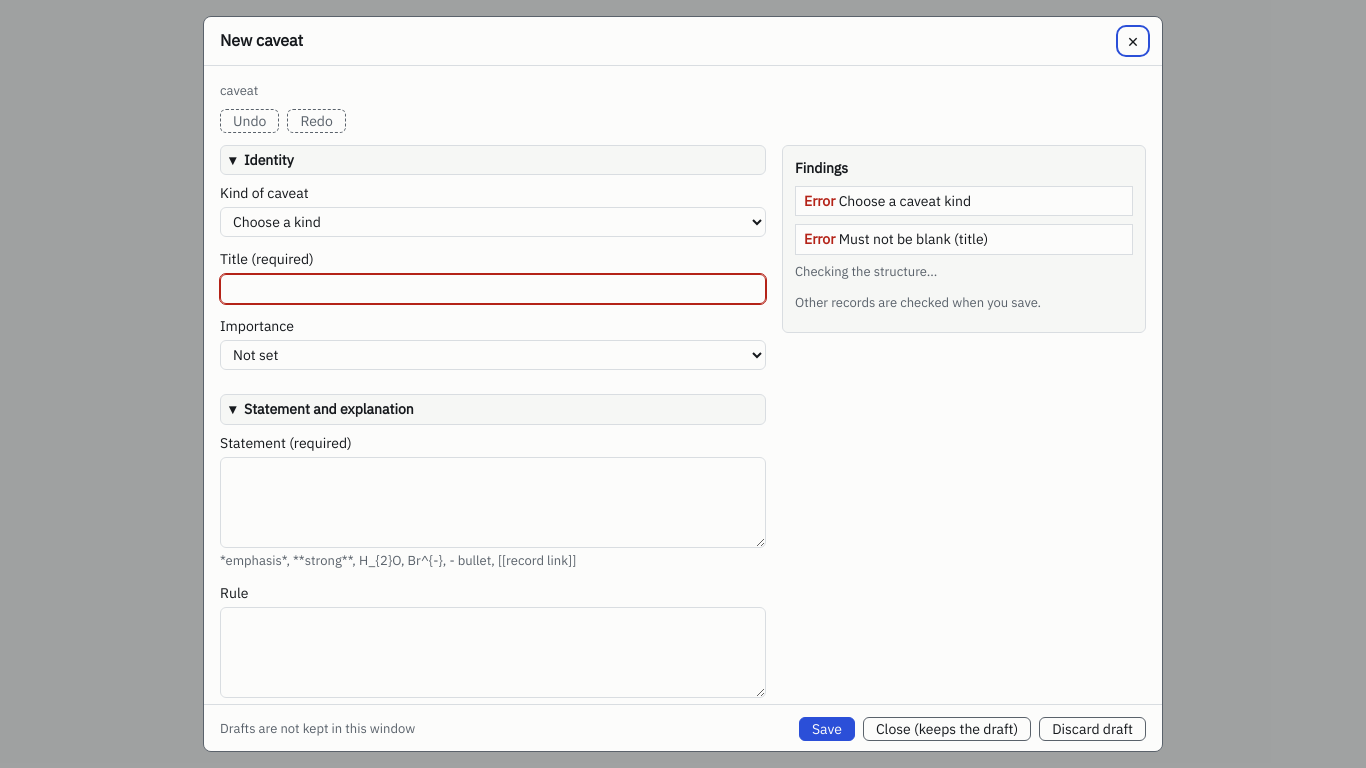
targets › CAV-001 and CAV-002 come live from the real rules
Select "Trap" in the dropdown labelled "Kind of caveat" at (493, 222), box [220, 207, 766, 237]
Type "Zz live caveat" into the field labelled "Title (required)" at (493, 289), box [220, 274, 766, 304]
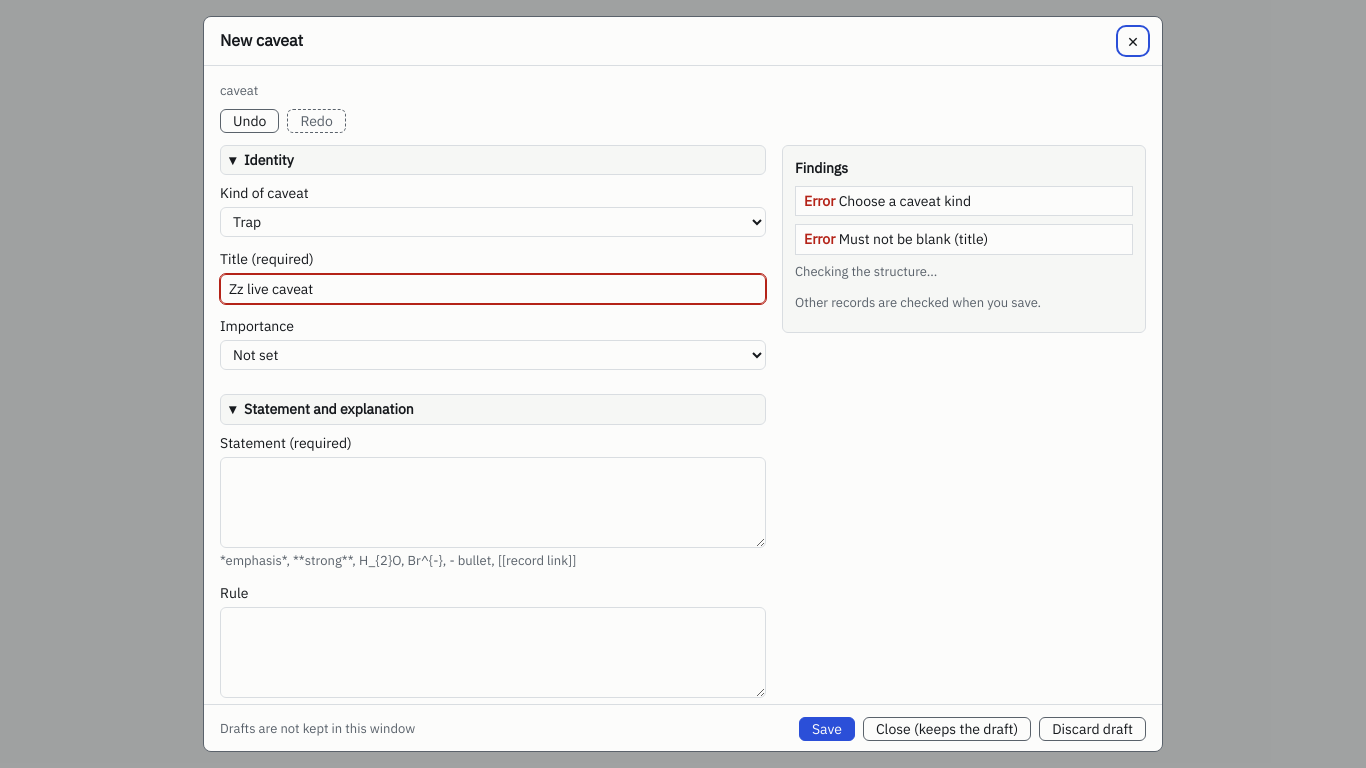
Type "A statement." into the text box labelled "Statement (required)" at (493, 502), box [220, 457, 766, 548]
(page scrolled)
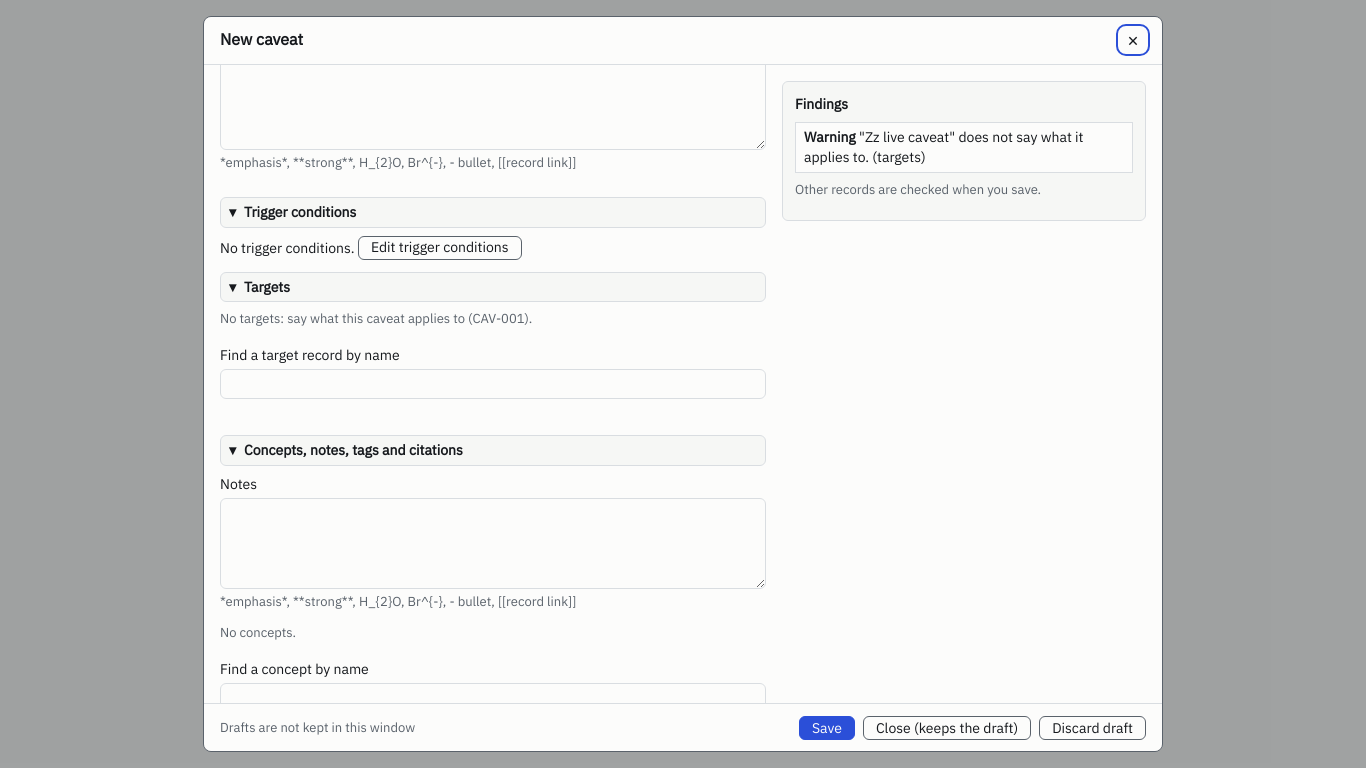
Check: the button "\"Zz live caveat\" does not say what it applies to" is shown, box [795, 122, 1133, 173]
Type "Cannizzaro" into the search field labelled "Find a target record by name" at (493, 384), box [220, 369, 766, 399]
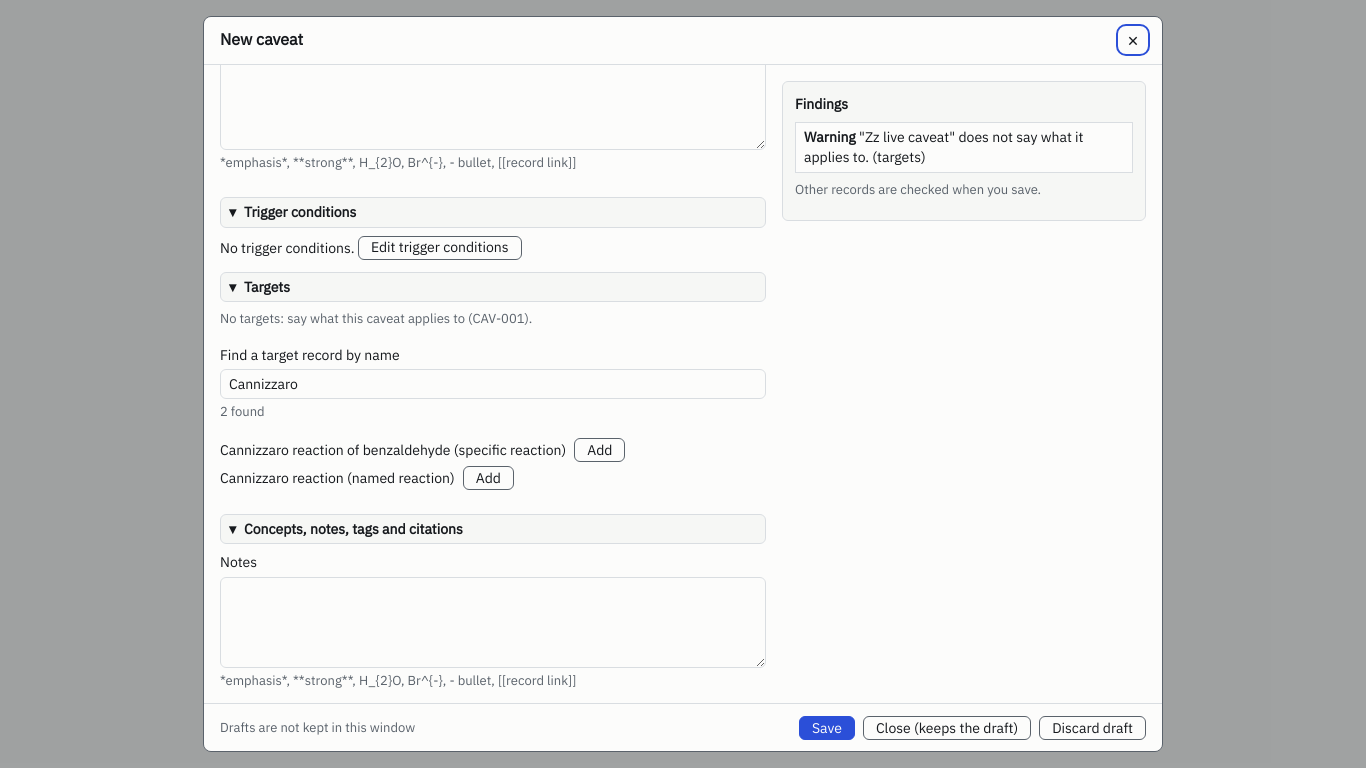
Click the 1st button "Add" at (600, 450), box [574, 438, 625, 462]
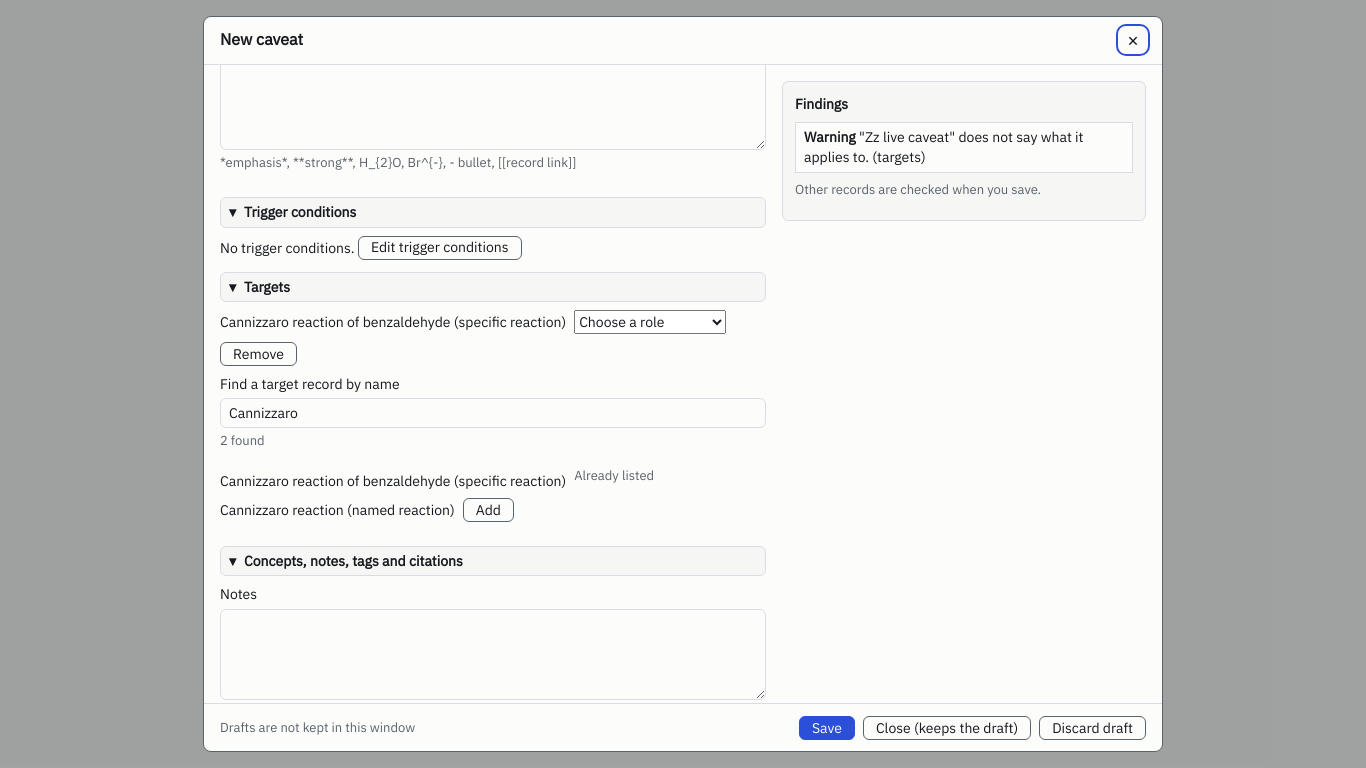
Select "Affected substrate" in the dropdown named "Role of Cannizzaro reaction of benzaldehyde" at (650, 322), box [574, 310, 726, 334]
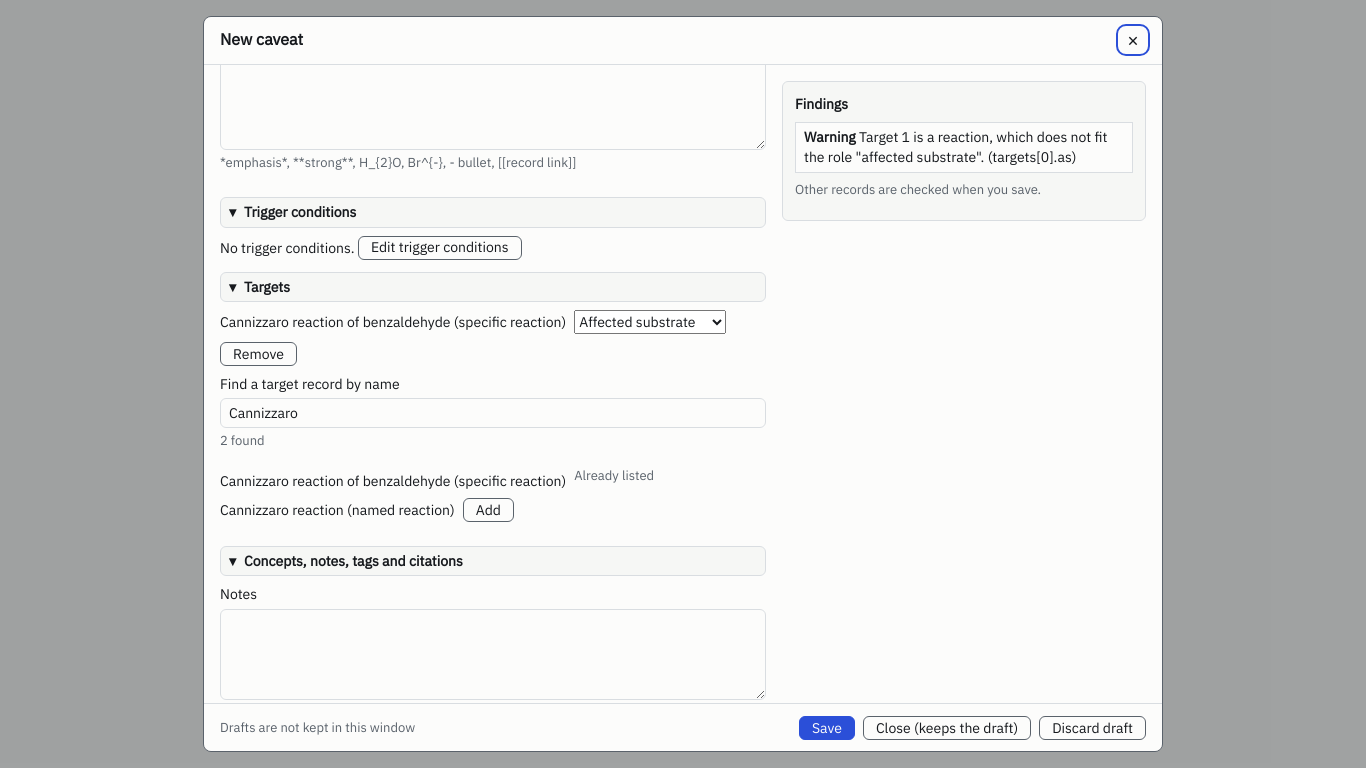
Check: the button "Target 1 is a reaction, which does not fit the role \"affected substrate\"" is shown, box [795, 122, 1133, 173]
Check: the button "does not say what it applies to" is gone
Select "Affected reaction" in the dropdown named "Role of Cannizzaro reaction of benzaldehyde" at (650, 322), box [574, 310, 726, 334]
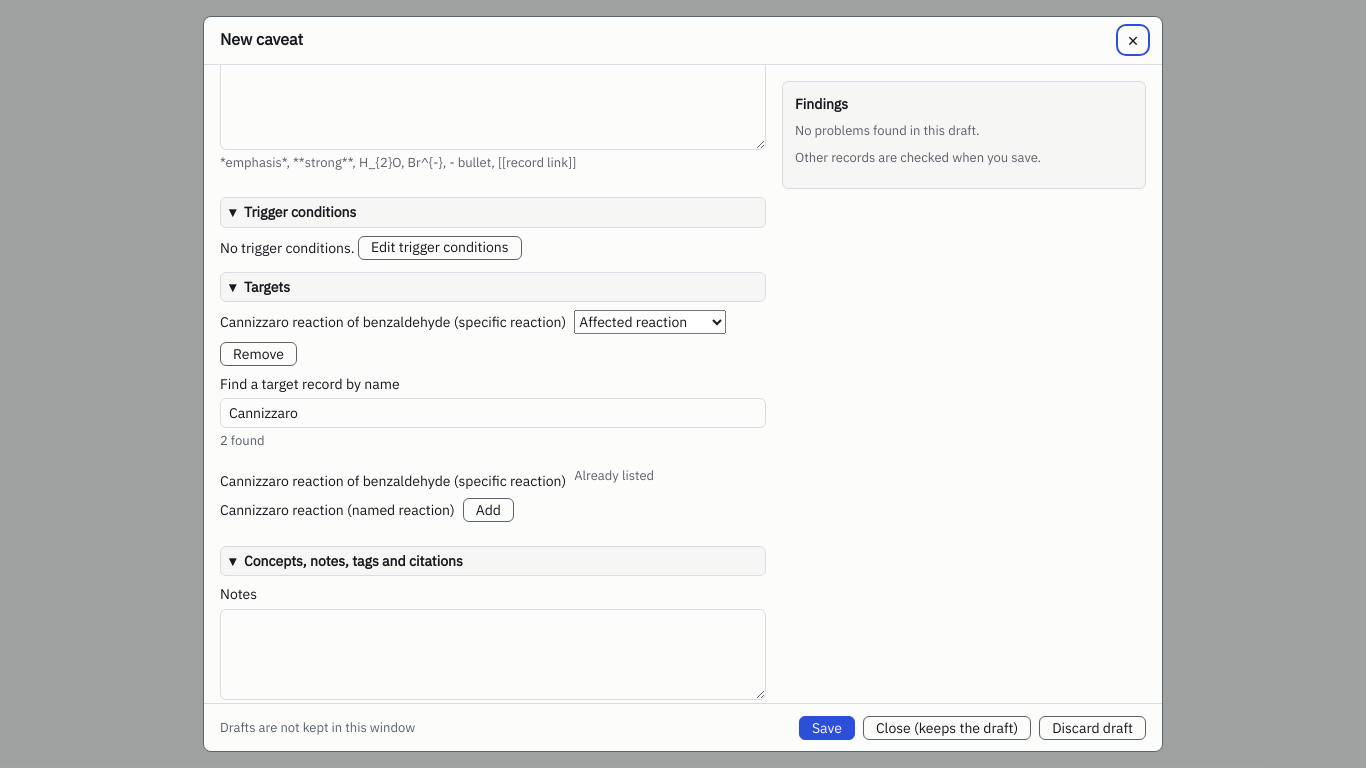
Check: the button "does not fit the role" is gone
